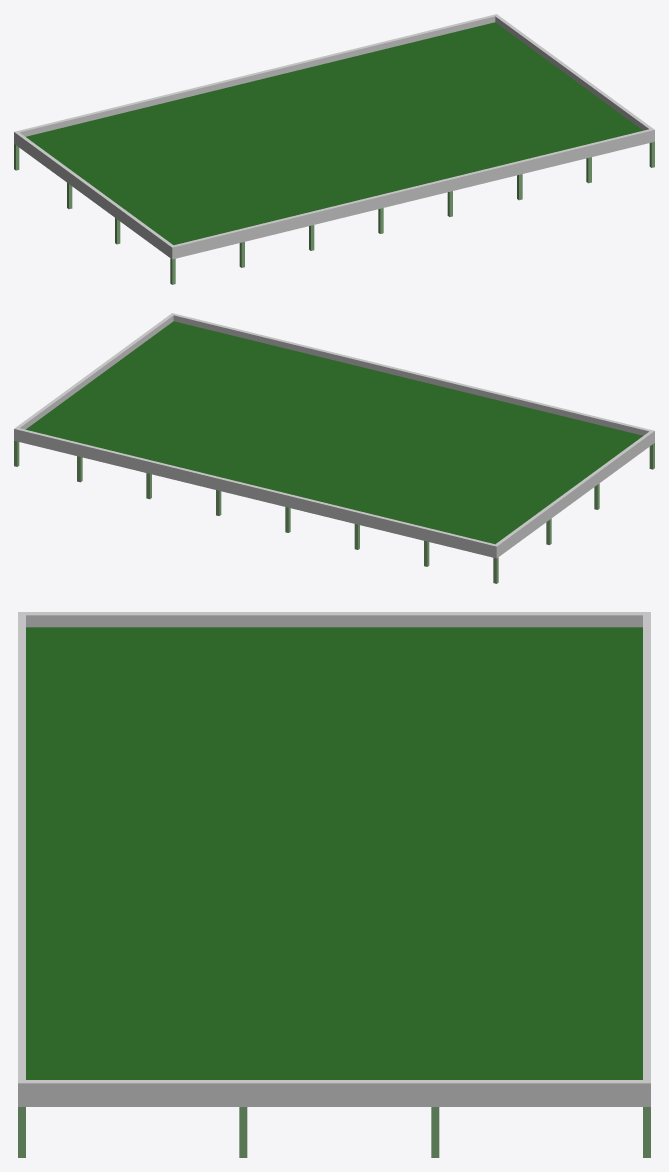
The model's file is carparkRoof.glb.
3 views of the same model, one above another, from view 1: azimuth 30°, elevation 25°; view 2: azimuth 150°, elevation 25°; view 3: azimuth 270°, elevation 25° (orthographic). The views are drawn at different scales.
Parts seen in each view (by area): view 1: carparkRoofGreen, carparkRoofWall, carparkRoofColumns; view 2: carparkRoofGreen, carparkRoofWall, carparkRoofColumns; view 3: carparkRoofGreen, carparkRoofWall, carparkRoofColumns.
Part boxes in pixels (box(x1,y1,x2,y2)): carparkRoofGreen: box(26, 22, 642, 245); carparkRoofWall: box(14, 14, 654, 259); carparkRoofColumns: box(14, 142, 654, 284); carparkRoofGreen: box(26, 321, 642, 544); carparkRoofWall: box(14, 313, 654, 558); carparkRoofColumns: box(14, 441, 654, 583); carparkRoofGreen: box(26, 627, 642, 1079); carparkRoofWall: box(18, 612, 650, 1106); carparkRoofColumns: box(18, 1107, 650, 1157).
Bounding box in the file's own units: 69.6 × 5.14 × 39.5.
